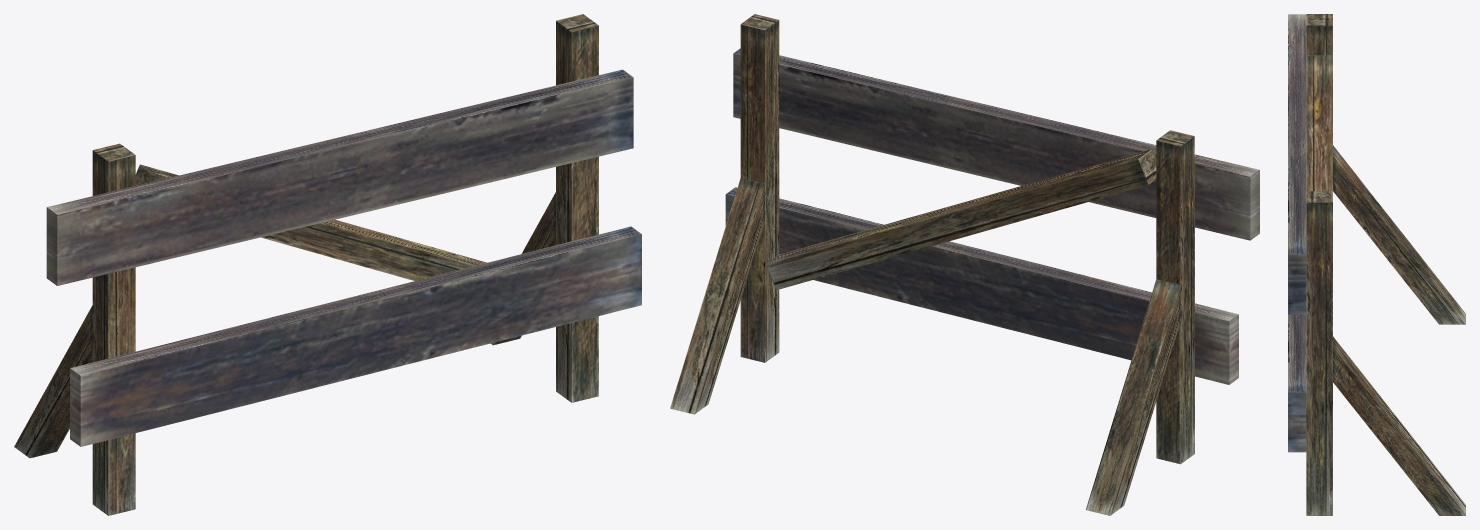
File: m_opora3.glb
3 renders of one model, left to right at view 1: azimuth 30°, elevation 25°; view 2: azimuth 150°, elevation 25°; view 3: azimuth 270°, elevation 25°, orthographic. The views are drawn at different scales.
Parts seen in each view (by area): view 1: m_opora3-col; view 2: m_opora3-col; view 3: m_opora3-col.
Boxes of the visible parts, box(x1,y1,x2,y2) form: m_opora3-col: box(14, 14, 641, 515); m_opora3-col: box(670, 14, 1259, 515); m_opora3-col: box(1288, 14, 1465, 515).
Bounding box in the file's own units: 2.15 × 1.3 × 0.668.
2 materials, 2 textured.
